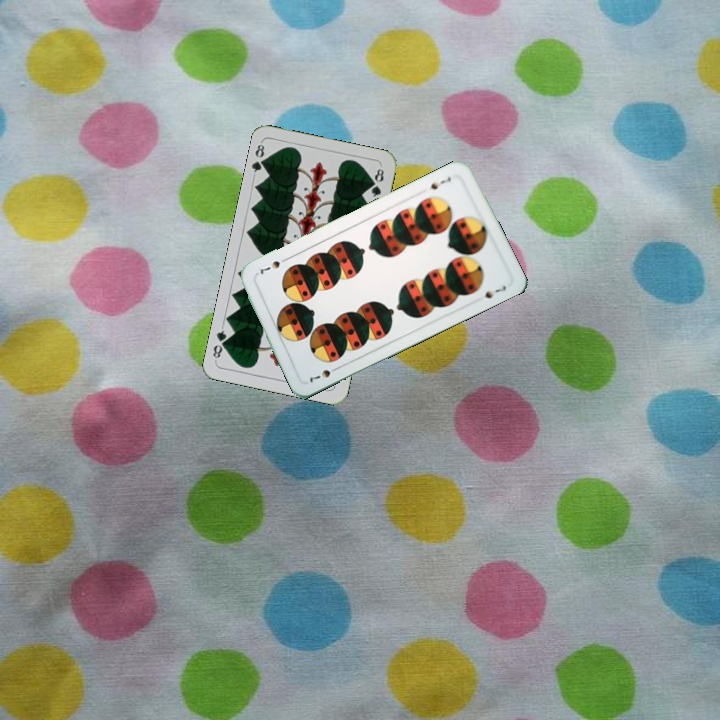G8: (248, 138, 270, 179)
S7: (304, 362, 342, 386), (427, 173, 454, 192)
